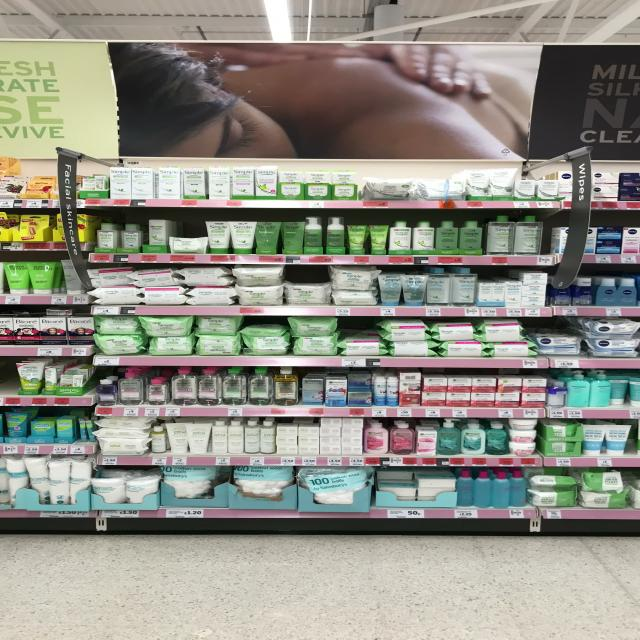unorganised: (575, 471, 627, 490), (527, 475, 579, 493), (120, 221, 144, 251), (238, 325, 288, 338), (609, 374, 629, 403), (376, 469, 414, 482), (44, 306, 75, 318), (87, 418, 96, 444)
